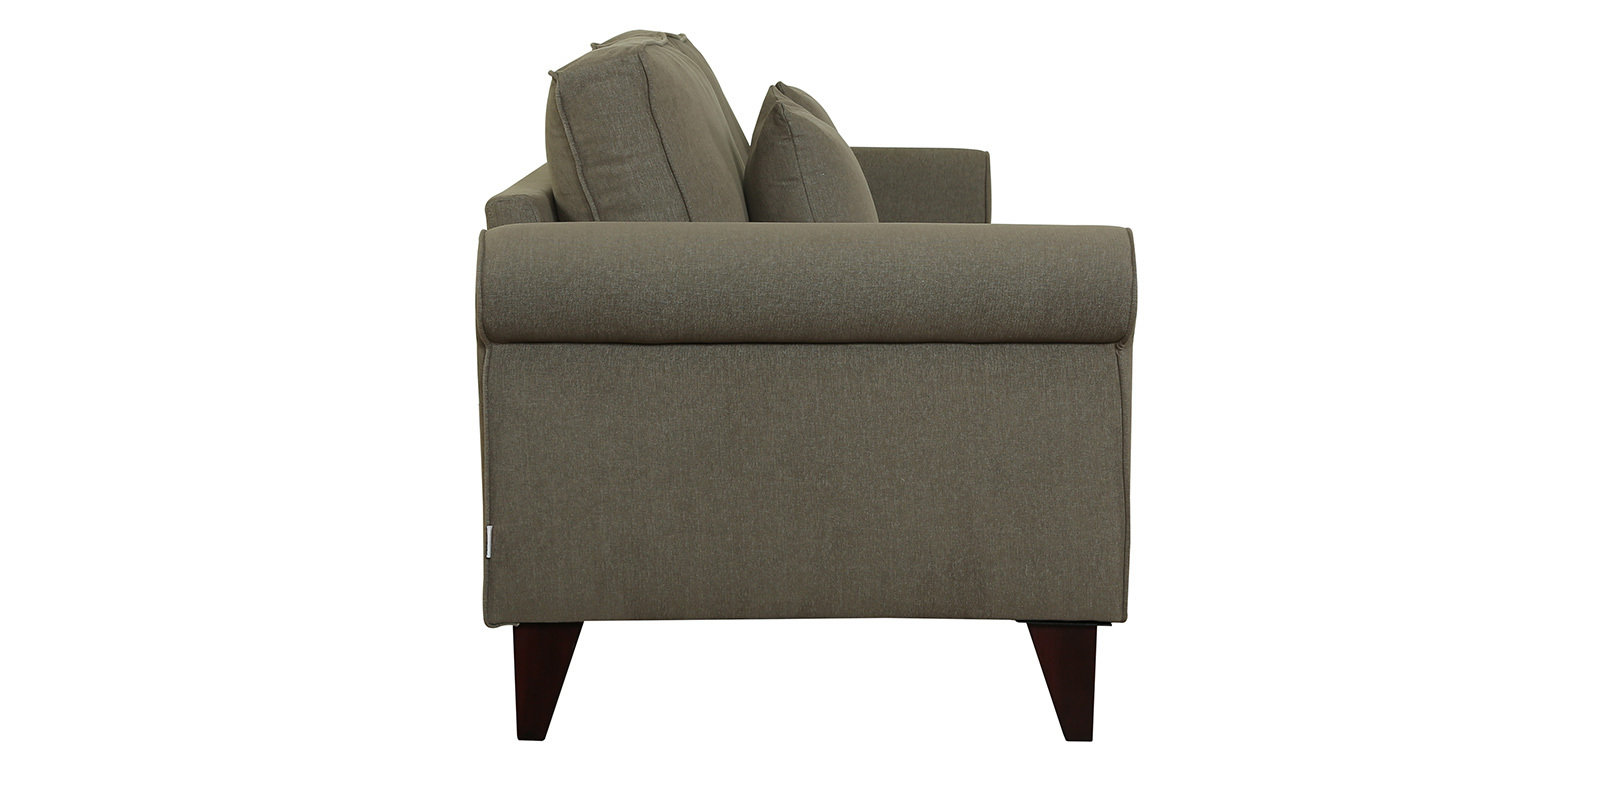Fuego Three Seater Sofa in Sandy Brown Colour by CasaCraft: (474, 34, 1186, 771)
